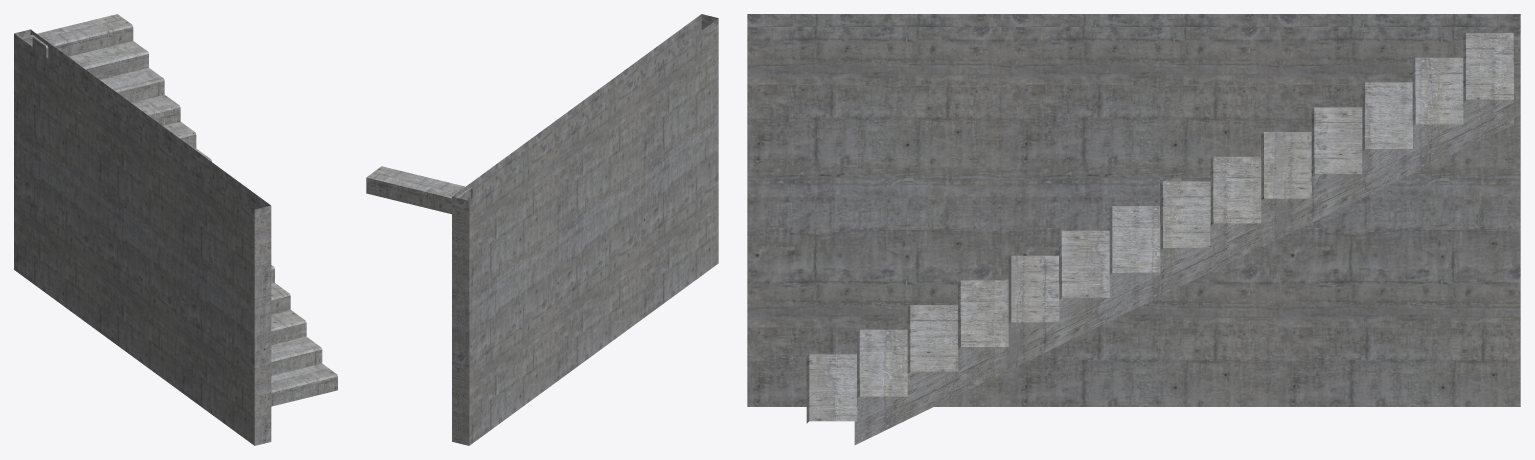
File: BUILDING_caveStairs_01.FBX
3 renders of one model, left to right at view 1: azimuth 30°, elevation 25°; view 2: azimuth 150°, elevation 25°; view 3: azimuth 270°, elevation 25°, orthographic. The views are drawn at different scales.
Parts seen in each view (by area): view 1: BUILIDING_CaveStairs_01; view 2: BUILIDING_CaveStairs_01; view 3: BUILIDING_CaveStairs_01.
Part boxes in pixels (<box>): BUILIDING_CaveStairs_01: <box>14,14,337,445</box>; BUILIDING_CaveStairs_01: <box>366,14,718,445</box>; BUILIDING_CaveStairs_01: <box>747,14,1520,444</box>.
Size of the model in its own units: 2.12 by 4.7 by 8.67.
Materials: 1 (1 with a texture image).
